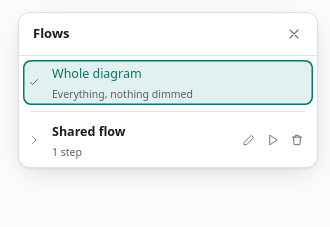
Test: FlowPanel › keeps shared flow navigation available but does not offer edits that cannot save
The width and height of the screenshot is (330, 227).
Expected: the button named "Rename Shared flow" is disabled, [237, 128, 261, 152]
Expected: the button named "Delete Shared flow" is disabled, [285, 128, 309, 152]
Double-click the button "Shared flow" at (140, 132), box [45, 121, 235, 144]
Press F2 in the option with class "dc-flow-row" showing "Shared flow 1 step", box [23, 118, 313, 163]
Press Delete in the option with class "dc-flow-row" showing "Shared flow 1 step", box [23, 118, 313, 163]
Click the button named "Expand" at (34, 140), box [25, 129, 43, 151]
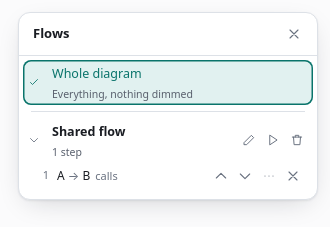
Expected: the button named "Present Shared flow" is enabled, [261, 128, 285, 152]
Expected: the button named "Remove step 1" is disabled, [281, 164, 305, 188]
